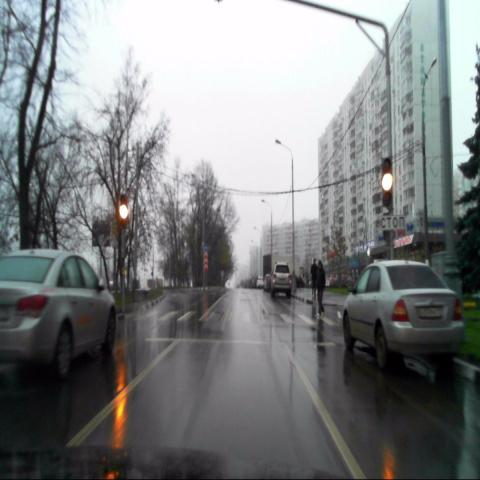6_16: (380, 214, 406, 229)
